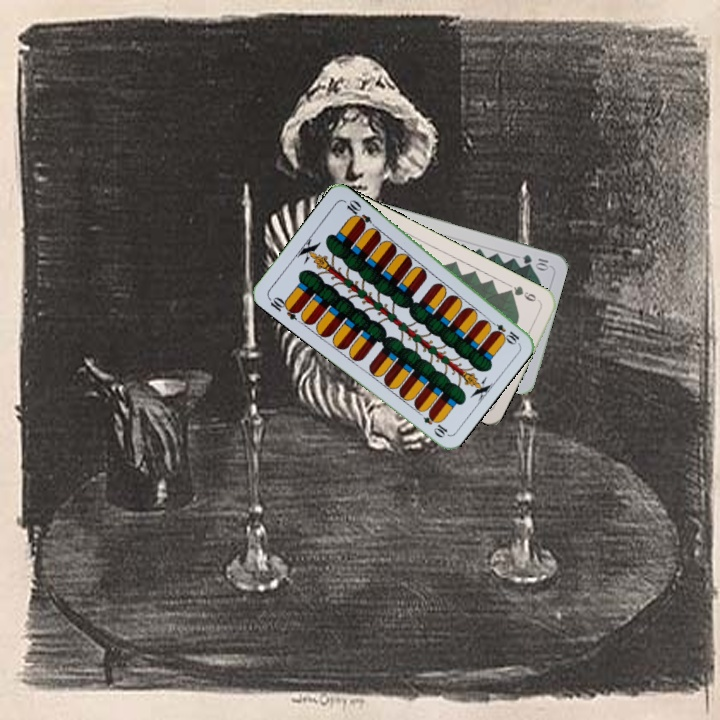E10: (264, 292, 302, 322), (485, 316, 522, 346)
G10: (519, 250, 552, 272)
G9: (503, 282, 543, 305)
